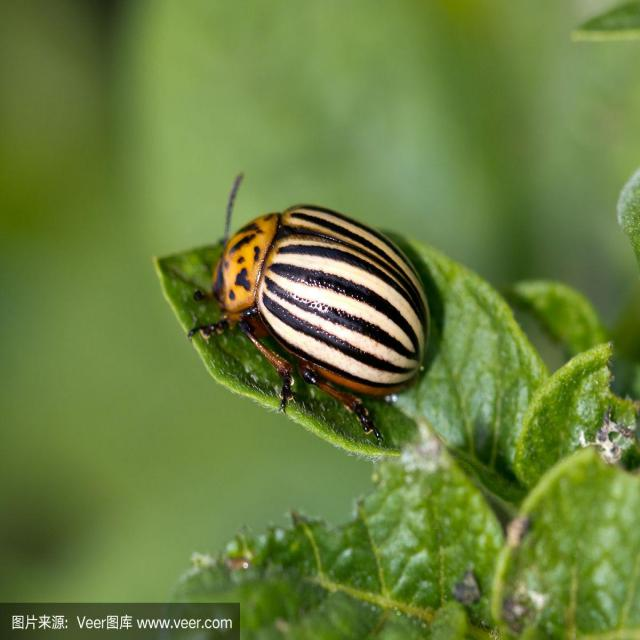ShuCaiHuaBanChong-Grown-: (202, 180, 440, 459)
